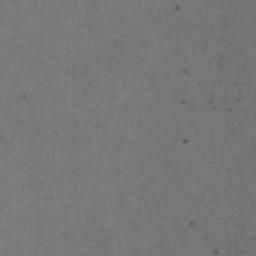Inclusion: (215, 54, 227, 86), (219, 17, 230, 44), (227, 97, 242, 113), (173, 0, 180, 12), (20, 93, 28, 100), (188, 220, 195, 228), (182, 138, 189, 145), (180, 99, 186, 105)
